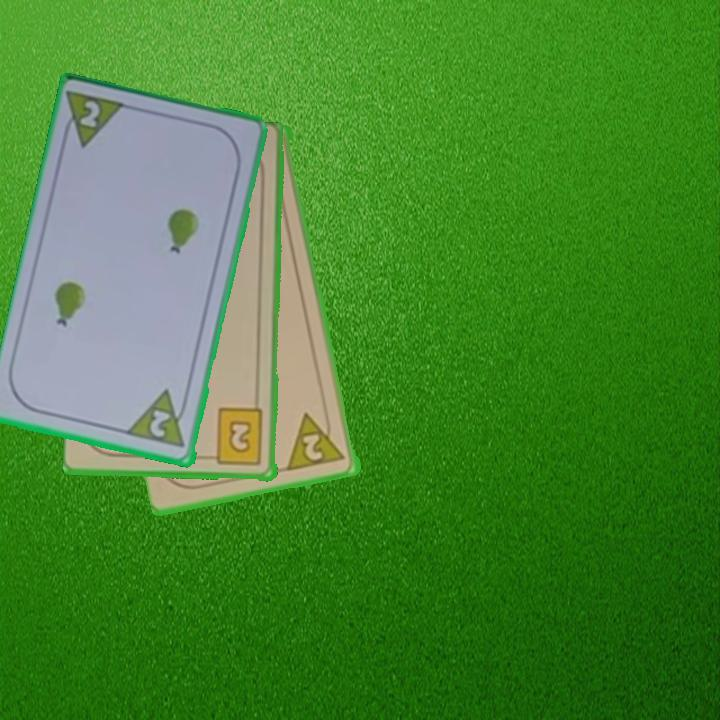2b: (204, 406, 266, 468)
2p: (58, 87, 130, 153), (285, 407, 350, 474), (146, 406, 174, 441)
